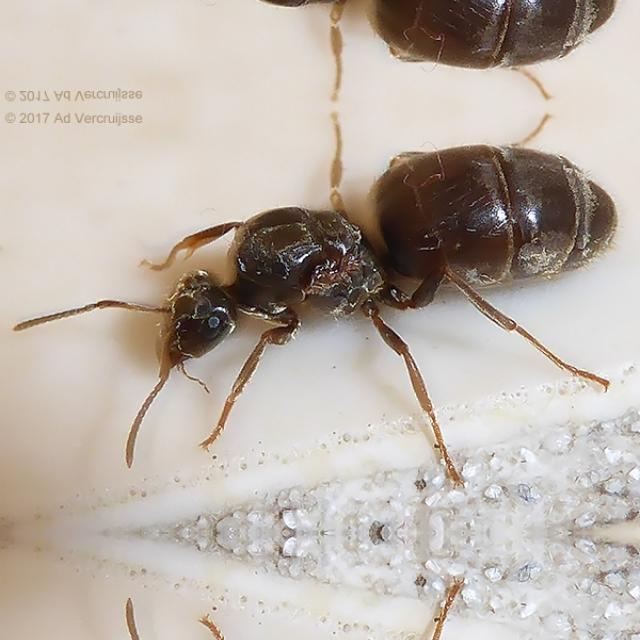Lasius: (73, 124, 635, 466), (73, 0, 635, 86)
